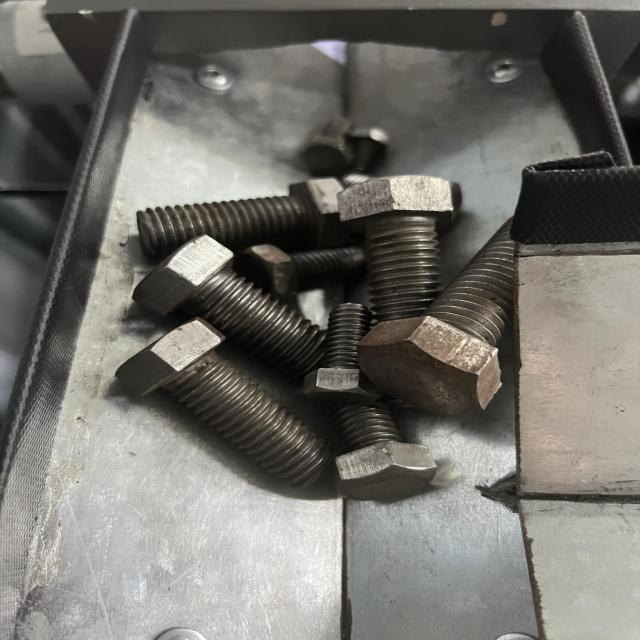bolt: (113, 318, 337, 490), (129, 235, 340, 372), (338, 173, 453, 317)
